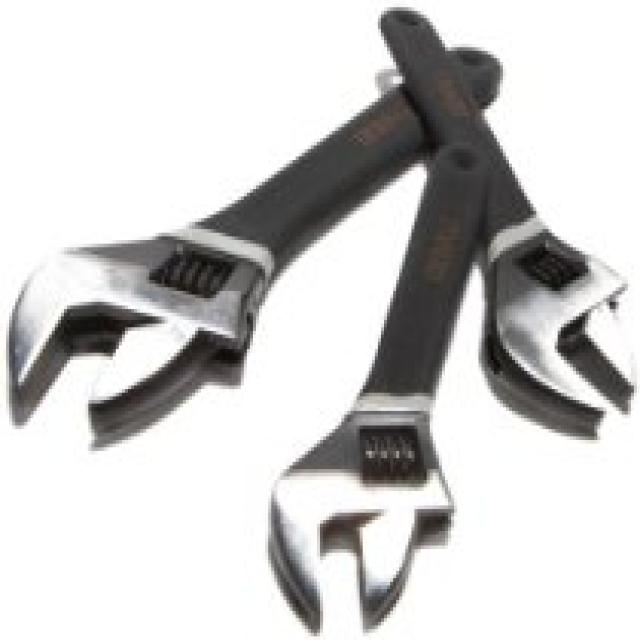wrench: (0, 89, 344, 458), (372, 0, 640, 417), (267, 244, 463, 631)
